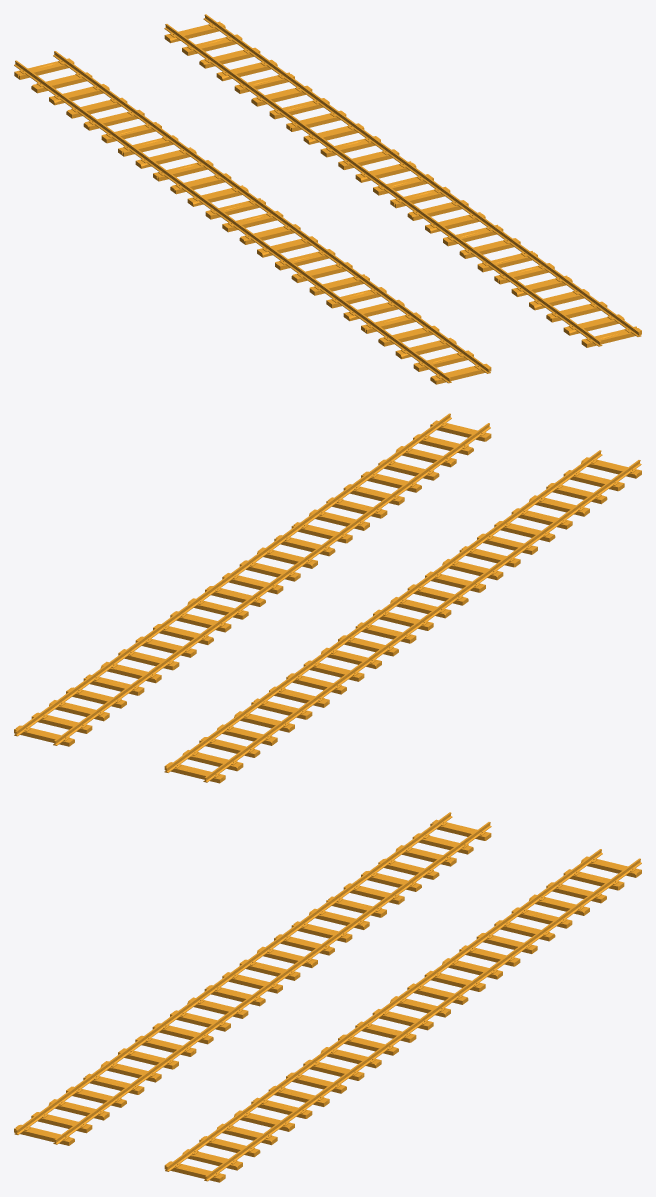
Rendered from SM_Train_Rail_Straight_Double_Old.fbx.
3 renders of one model, top to bottom at view 1: azimuth 30°, elevation 25°; view 2: azimuth 150°, elevation 25°; view 3: azimuth 330°, elevation 25°, orthographic.
Visible parts, largest first — view 1: SM_Train_Rail_Straight_Double_Old; view 2: SM_Train_Rail_Straight_Double_Old; view 3: SM_Train_Rail_Straight_Double_Old.
Part boxes in pixels (<box>): SM_Train_Rail_Straight_Double_Old: <box>14,14,641,384</box>; SM_Train_Rail_Straight_Double_Old: <box>14,413,641,783</box>; SM_Train_Rail_Straight_Double_Old: <box>14,812,641,1182</box>.
Size of the model in its own units: 8.22 by 0.3465 by 30.
